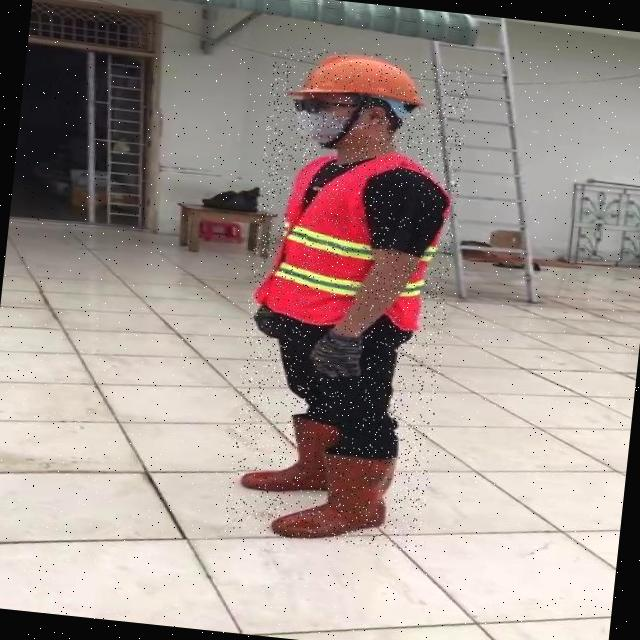boots: (268, 446, 401, 548), (235, 402, 368, 504)
helmet: (282, 44, 434, 114)
vest: (259, 148, 443, 338)
